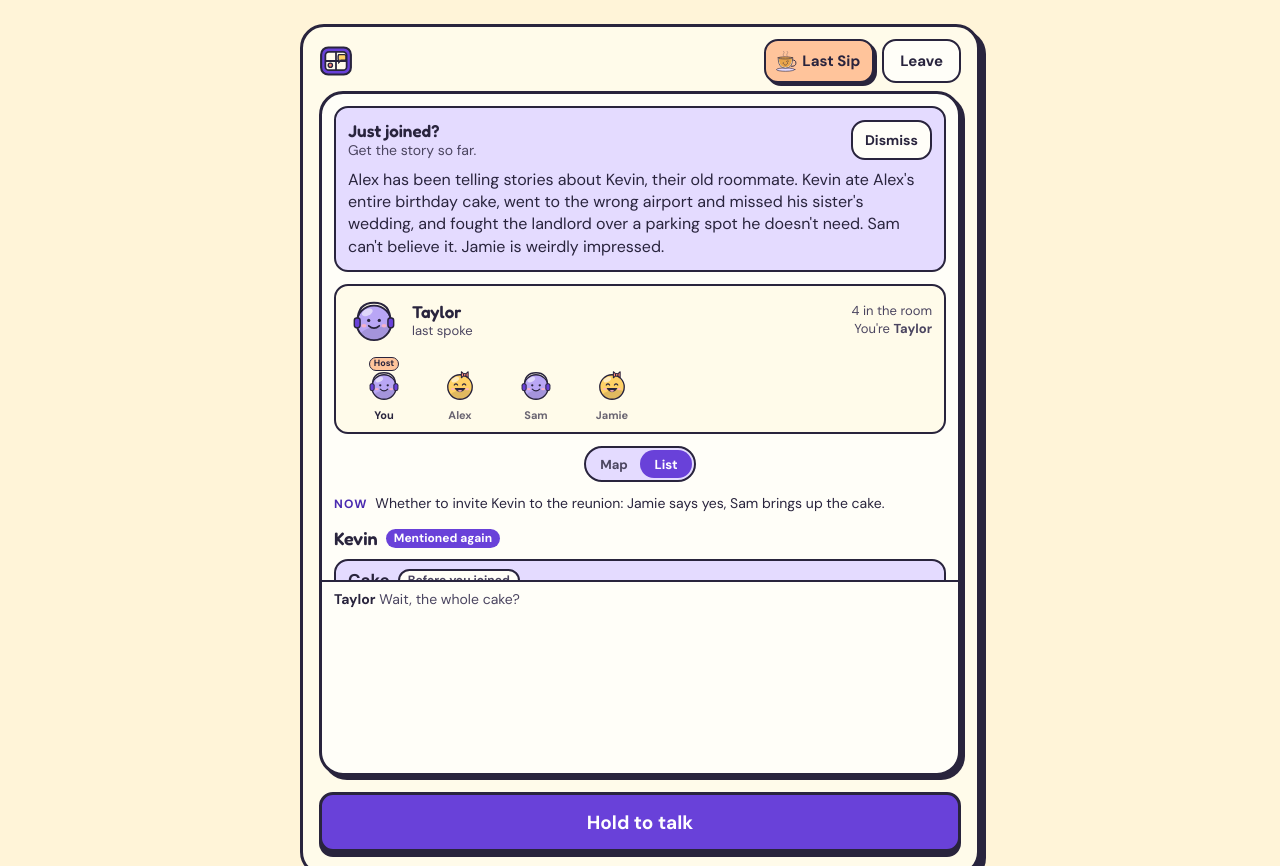
Test: Leave on the room screen › warns the host that nobody else can burn the room
Click the button "Leave".
click(922, 61)  # box left=882, top=39, right=961, bottom=83
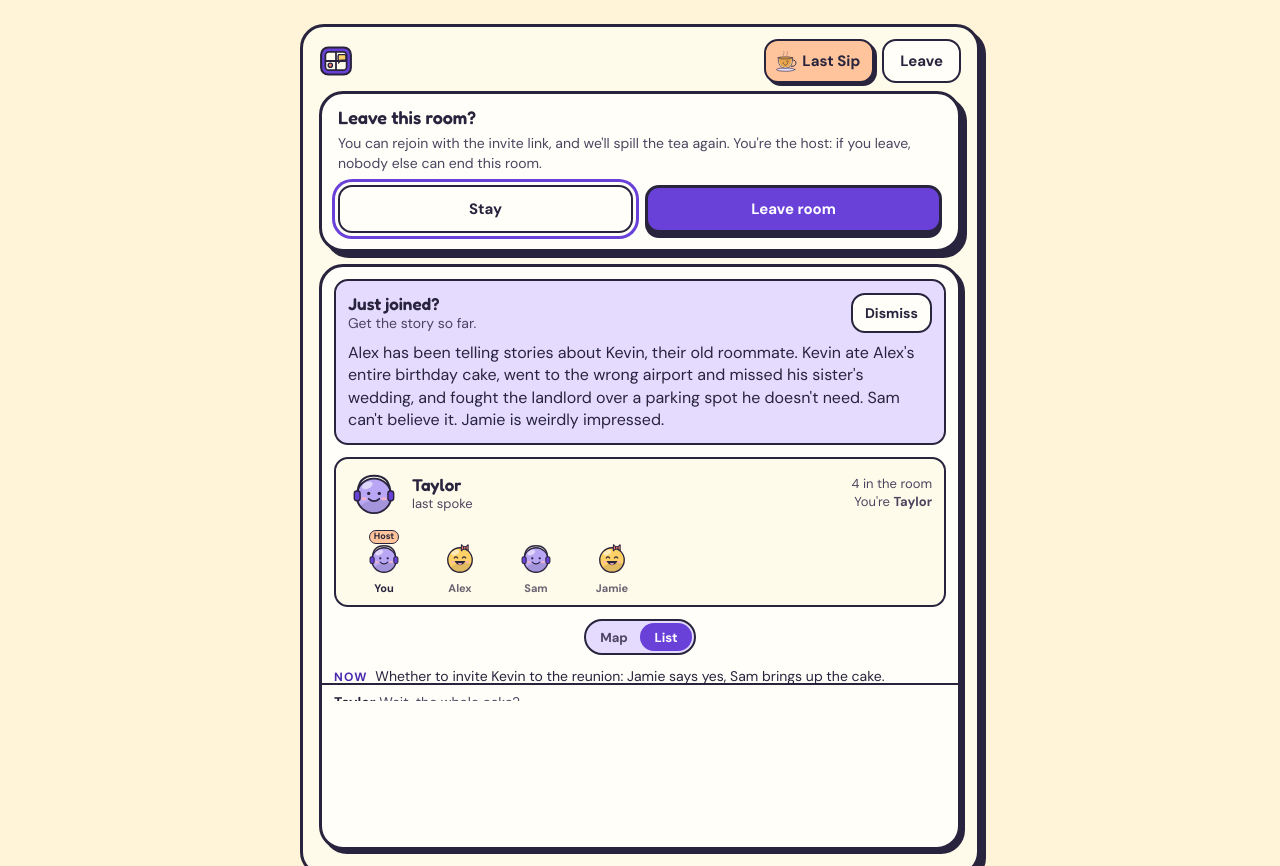
Now the dialog shows "You're the host", box left=338, top=134, right=911, bottom=172
